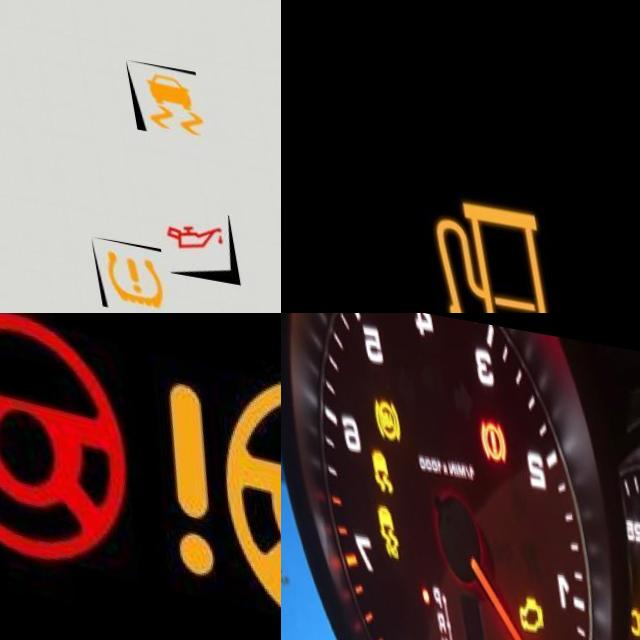Electronic Power Steering: (138, 339, 281, 640), (0, 313, 133, 570)
